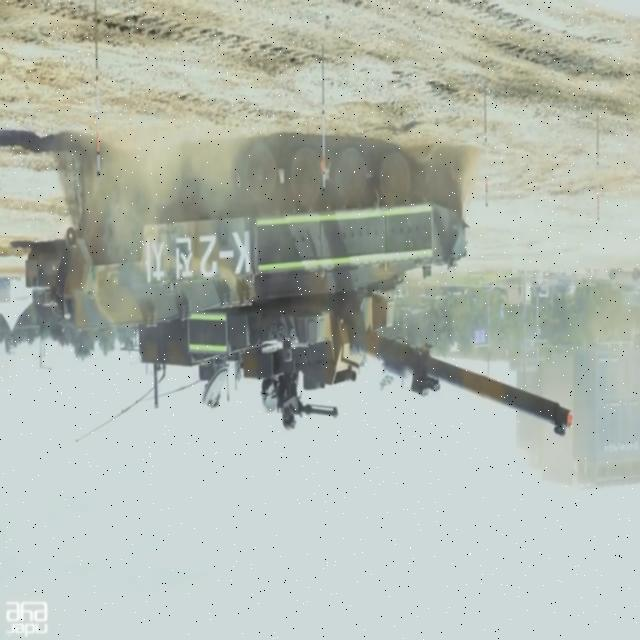korea tank: (50, 143, 572, 437)
